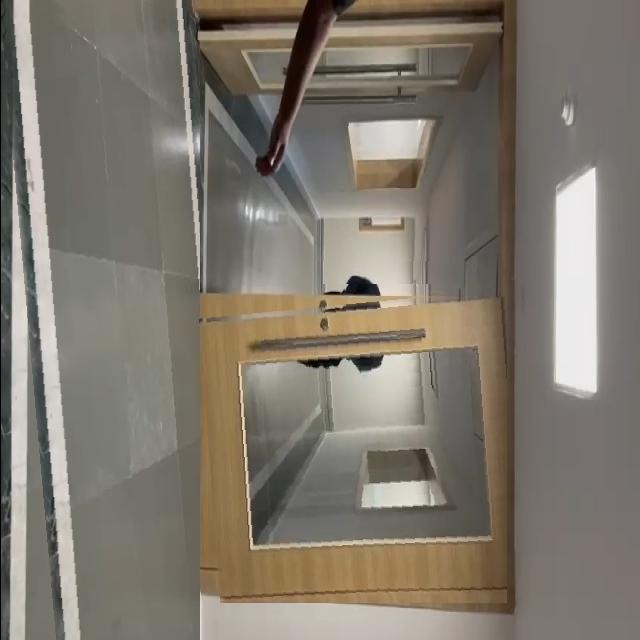door: (198, 289, 506, 603)
floor: (0, 0, 199, 640), (203, 176, 321, 292)
wall: (322, 92, 459, 284)
